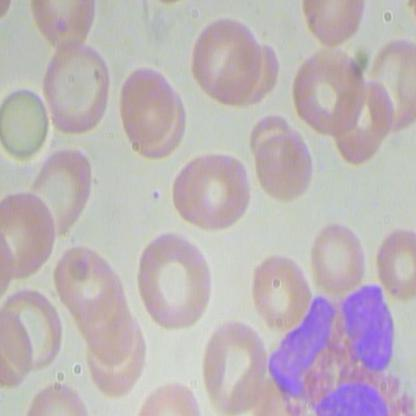RBC: (132, 231, 218, 340), (26, 144, 96, 244), (294, 44, 367, 138), (186, 16, 263, 105), (42, 42, 112, 138), (198, 318, 269, 411), (180, 154, 252, 231), (244, 251, 313, 329), (51, 242, 116, 322), (119, 66, 179, 146), (255, 132, 317, 201), (310, 219, 365, 294)
WBC: (261, 278, 415, 415)
